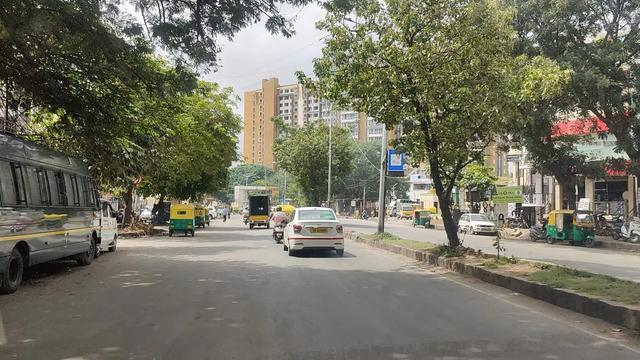LMV: (282, 200, 340, 258), (171, 201, 194, 238), (269, 210, 283, 242)
